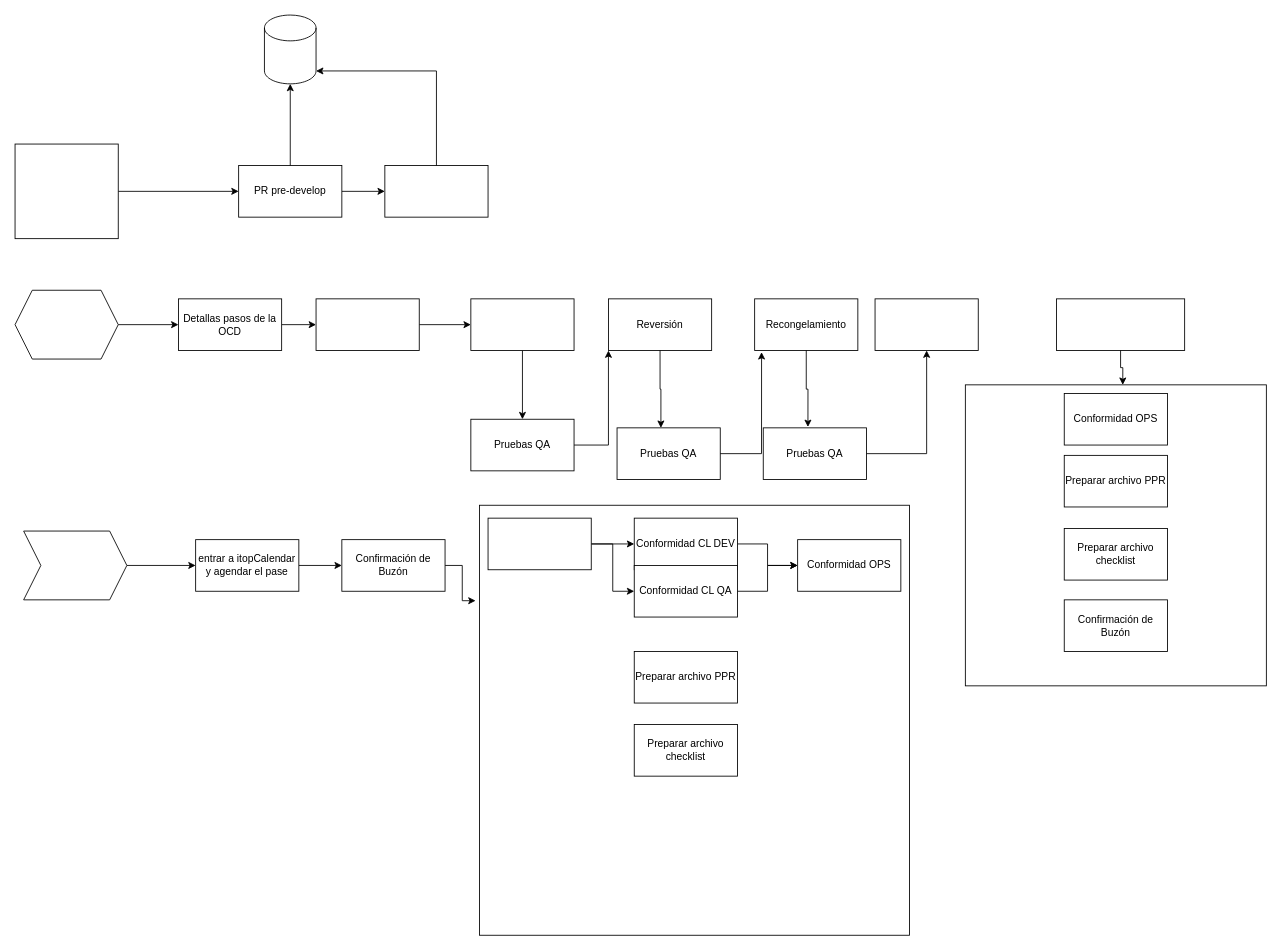
Image size: 1281x950. Some labels were removed from this diagram. Here are the shapes that lost their labels. From the top down, the centre of each, then its label:
At point 66,191: "Desarrollo".
At point 436,191: "Pr develop".
At point 66,324: "OCD".
At point 367,324: "Validación Técnica ( LT )".
At point 522,324: "Congelamiento".
At point 926,324: "Gestion de Pase".
At point 1120,324: "Creas una tablas con los siguientes archivos".
At point 539,543: "Conformidad LT".
At point 75,565: "Agendar Pase".
